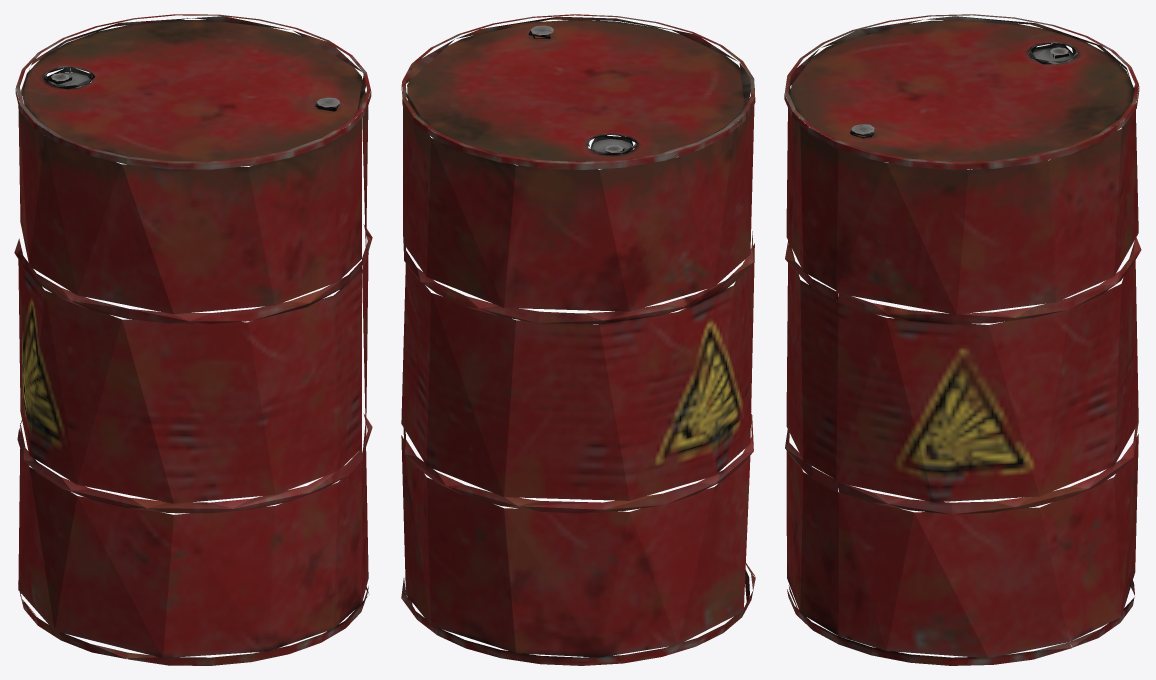
Rendered from prop_barrel_rust.glb.
The picture shows the model from 3 angles, left to right: view 1: azimuth 30°, elevation 25°; view 2: azimuth 150°, elevation 25°; view 3: azimuth 270°, elevation 25°; orthographic projection.
Parts seen in each view (by area): view 1: hull; view 2: hull; view 3: hull.
Boxes of the visible parts, x1=… form: hull: x1=14, y1=14, x2=372, y2=665; hull: x1=401, y1=14, x2=755, y2=665; hull: x1=784, y1=14, x2=1141, y2=665.
Size of the model in its own units: 1.99 by 3.12 by 2.
1 material, 1 textured.
